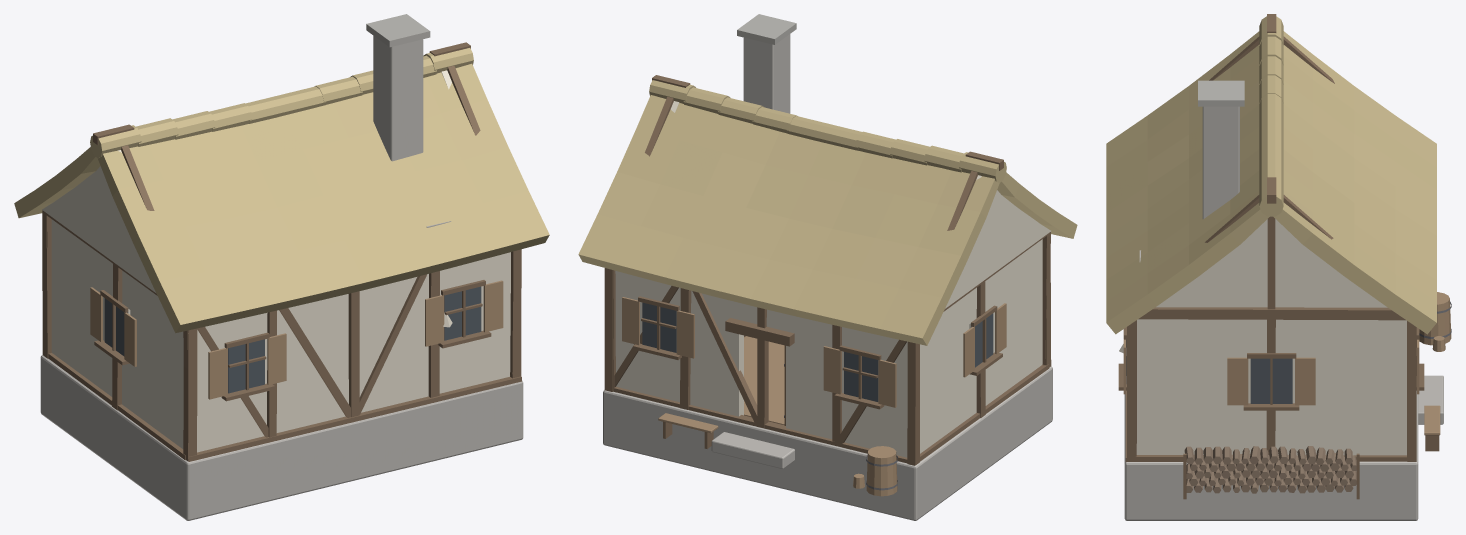
The model's file is house_a.glb.
The picture shows the model from 3 angles, left to right: view 1: azimuth 30°, elevation 25°; view 2: azimuth 150°, elevation 25°; view 3: azimuth 270°, elevation 25°; orthographic projection. The views are drawn at different scales.
Parts seen in each view (by area): view 1: house_a; view 2: house_a; view 3: house_a.
Part boxes in pixels (box(x1,y1,x2,y2)): house_a: box(14, 14, 549, 520); house_a: box(578, 14, 1077, 520); house_a: box(1106, 14, 1451, 520).
Bounding box in the file's own units: 9.31 × 9.32 × 7.42.
